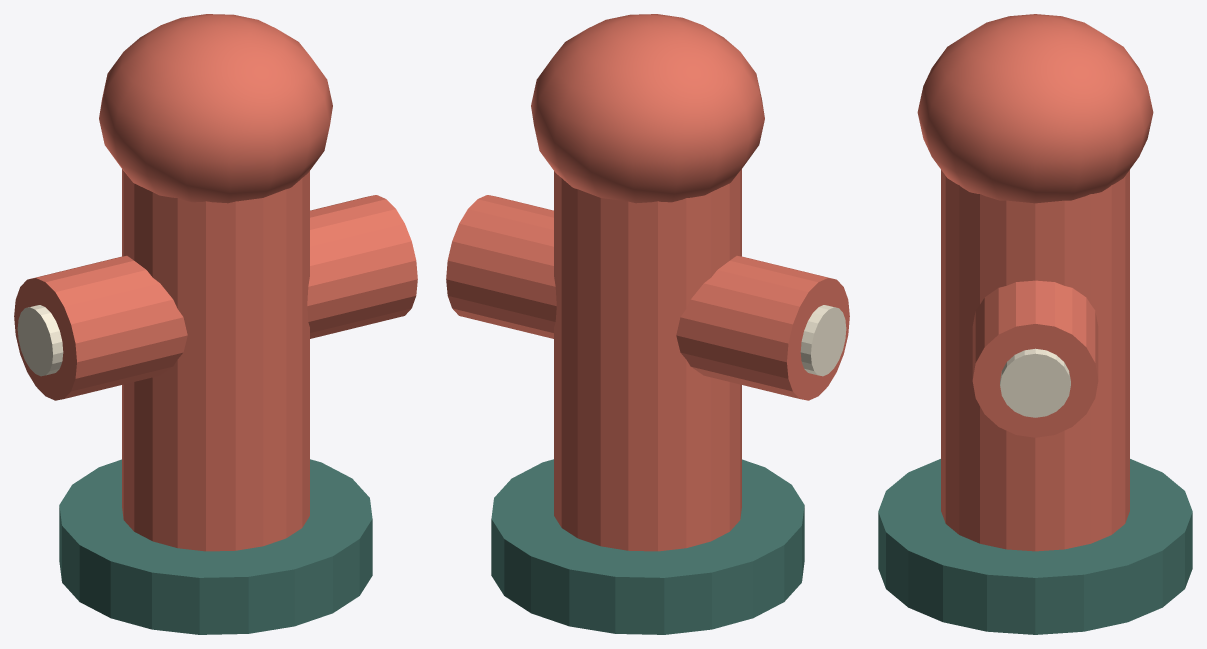
Rendered from hydrant.glb.
3 views of the same model, side by side, from view 1: azimuth 30°, elevation 25°; view 2: azimuth 150°, elevation 25°; view 3: azimuth 270°, elevation 25° (orthographic).
Parts seen in each view (by area): view 1: barrel, cap, base, outlet, outlet.001, cap bolt.001; view 2: barrel, cap, base, outlet, outlet.001, cap bolt.001; view 3: barrel, cap, base, outlet.001, cap bolt.
Part boxes in pixels (x1,y1,x2,y2): barrel: (122,169,309,551); cap: (99,14,332,203); base: (59,459,372,634); outlet: (14,255,187,400); outlet.001: (307,195,417,338); cap bolt.001: (17,305,63,376); barrel: (554,169,741,551); cap: (531,14,764,203); base: (491,459,804,634); outlet: (676,255,849,400); outlet.001: (446,195,556,338); cap bolt.001: (800,305,846,376); barrel: (941,170,1129,551); cap: (917,14,1153,203); base: (878,459,1192,634); outlet.001: (972,280,1098,437); cap bolt: (1000,348,1070,417).
Size of the model in its own units: 0.53 by 0.76 by 0.4.
